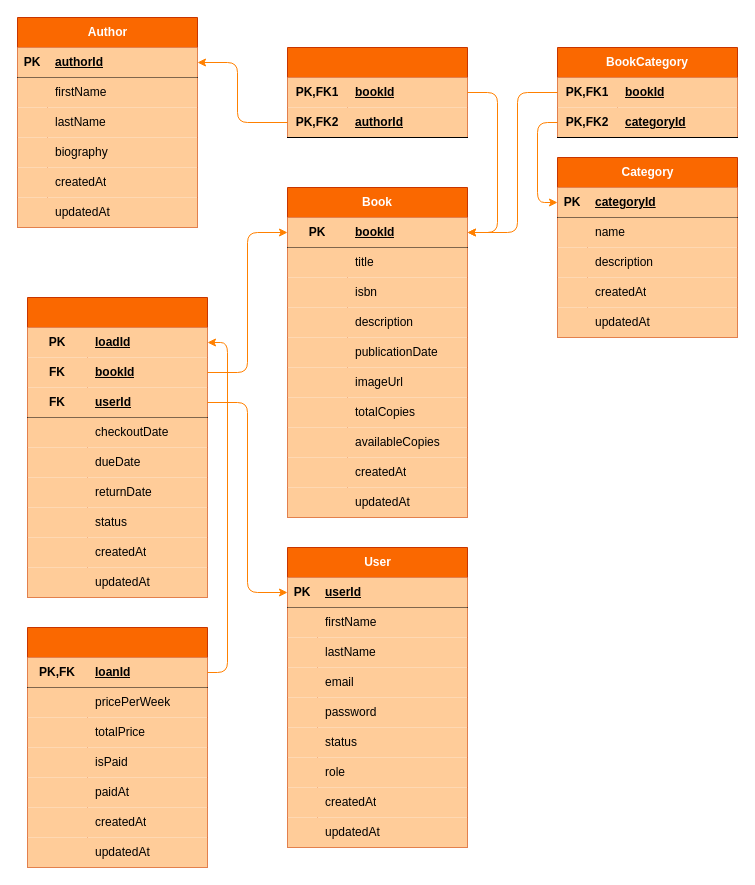
The diagram is 755 pixels wide and 885 high, and some of its shapes have lost their labels. Each missing label, with the box of its shape:
BookAuthor: (286, 46, 468, 138)
Fines: (26, 626, 208, 868)
Loan: (26, 296, 208, 598)
